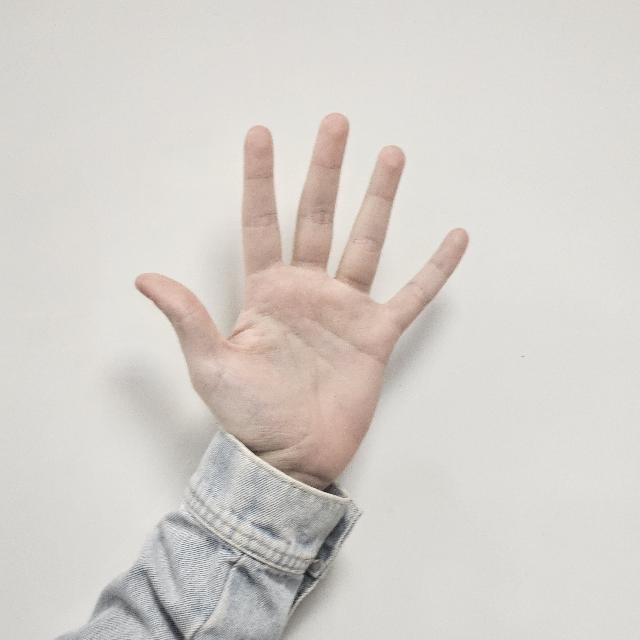X: (137, 112, 471, 494)
